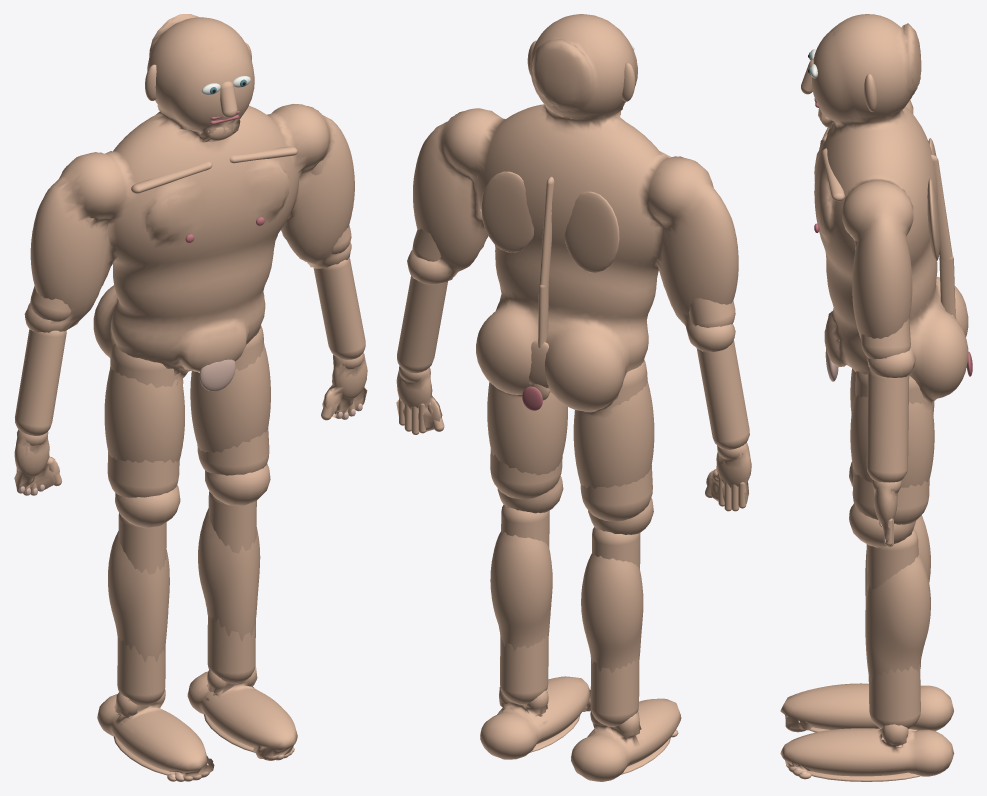
File: body-hochbetagt-divers-v2.glb
3 views of the same model, side by side, from view 1: azimuth 30°, elevation 25°; view 2: azimuth 150°, elevation 25°; view 3: azimuth 270°, elevation 25° (orthographic).
Parts seen in each view (by area): view 1: zone__visual-surface-body-hochbetagt-divers, zone__surface-lower-leg-right, zone__surface-lower-leg-left, zone__surface-thigh-left, zone__surface-forearm-left, zone__surface-forearm-right, zone__surface-thigh-right, zone__surface-genital-observation-deferred, zone__surface-upper-arm-left, zone__surface-clavicle-left; view 2: zone__visual-surface-body-hochbetagt-divers, zone__surface-lower-leg-left, zone__surface-lower-leg-right, zone__surface-forearm-left, zone__surface-scapula-left, zone__surface-forearm-right, zone__surface-scapula-right, zone__surface-thigh-left, zone__surface-thigh-right, zone__surface-upper-arm-left, zone__surface-thoracic-spine, zone__surface-sacrum (+2 smaller); view 3: zone__visual-surface-body-hochbetagt-divers, zone__surface-lower-leg-right, zone__surface-forearm-right, zone__surface-thigh-right, zone__surface-upper-arm-right, zone__surface-thoracic-spine, zone__surface-lumbar-spine, zone__surface-scapula-right, zone__surface-sole-right, zone__surface-clavicle-right, zone__surface-ear-right.
Part boxes in pixels (x1,y1,x2,y2): zone__visual-surface-body-hochbetagt-divers: (14, 14, 367, 776); zone__surface-lower-leg-right: (207, 491, 256, 684); zone__surface-lower-leg-left: (117, 513, 166, 705); zone__surface-thigh-left: (107, 343, 180, 497); zone__surface-forearm-left: (15, 329, 66, 435); zone__surface-forearm-right: (313, 257, 365, 359); zone__surface-thigh-right: (197, 325, 269, 475); zone__surface-genital-observation-deferred: (199, 359, 235, 391); zone__surface-upper-arm-left: (30, 217, 98, 321); zone__surface-clavicle-left: (131, 161, 212, 193); zone__visual-surface-body-hochbetagt-divers: (396, 14, 751, 781); zone__surface-lower-leg-left: (590, 527, 640, 726); zone__surface-lower-leg-right: (500, 505, 549, 704); zone__surface-forearm-left: (696, 340, 749, 449); zone__surface-scapula-left: (564, 191, 619, 272); zone__surface-forearm-right: (397, 275, 447, 373); zone__surface-scapula-right: (481, 171, 533, 252); zone__surface-thigh-left: (580, 360, 652, 521); zone__surface-thigh-right: (490, 448, 562, 499); zone__surface-upper-arm-left: (688, 298, 735, 327); zone__surface-thoracic-spine: (539, 176, 554, 290); zone__surface-sacrum: (529, 340, 548, 388); zone__visual-surface-body-hochbetagt-divers: (780, 14, 968, 776); zone__surface-lower-leg-right: (866, 528, 920, 728); zone__surface-forearm-right: (866, 367, 909, 482); zone__surface-thigh-right: (852, 371, 930, 524); zone__surface-upper-arm-right: (854, 240, 910, 359); zone__surface-thoracic-spine: (931, 154, 952, 264); zone__surface-lumbar-spine: (939, 256, 955, 317); zone__surface-scapula-right: (927, 178, 939, 261); zone__surface-sole-right: (808, 770, 920, 781); zone__surface-clavicle-right: (822, 148, 844, 201); zone__surface-ear-right: (864, 74, 877, 111).
Size of the model in its own units: 0.8092 by 1.59 by 0.3792.
